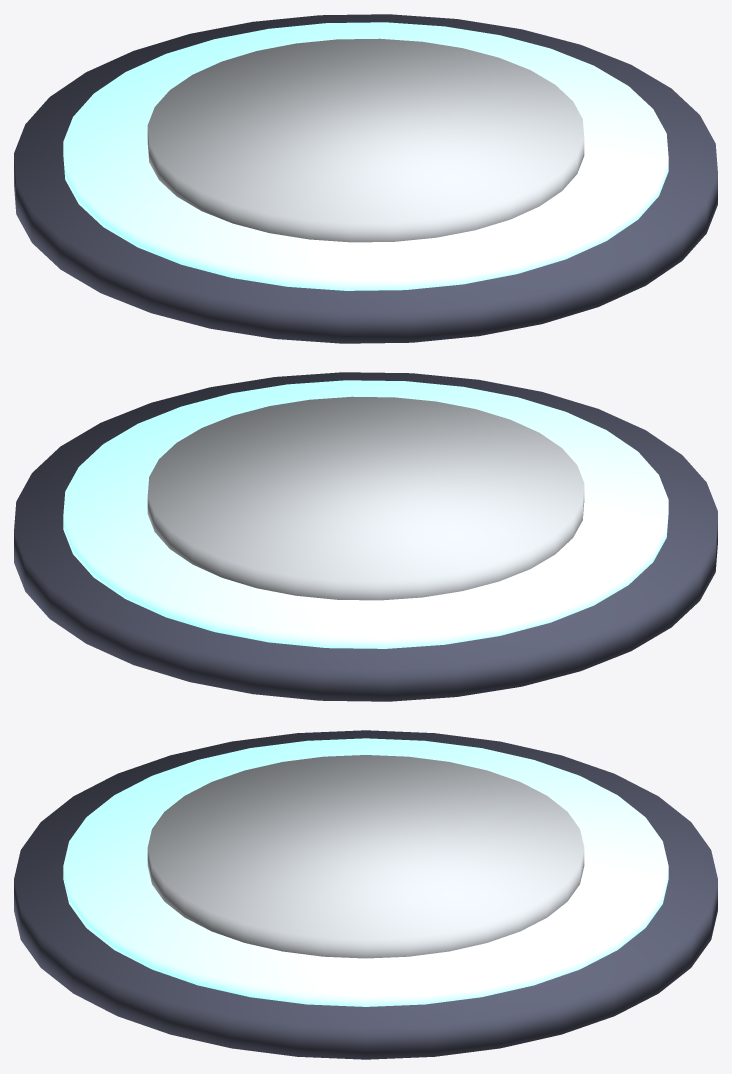
File: pad.glb
3 views of the same model, one above another, from view 1: azimuth 30°, elevation 25°; view 2: azimuth 150°, elevation 25°; view 3: azimuth 270°, elevation 25° (orthographic).
Visible parts, largest first — view 1: Cylinder.002, Cylinder, Cylinder.001; view 2: Cylinder.002, Cylinder, Cylinder.001; view 3: Cylinder.002, Cylinder, Cylinder.001.
Boxes of the visible parts, left/top/right/bottom form: Cylinder.002: left=147, top=38, right=584, bottom=242; Cylinder: left=14, top=14, right=717, bottom=343; Cylinder.001: left=63, top=22, right=668, bottom=290; Cylinder.002: left=147, top=396, right=584, bottom=600; Cylinder: left=14, top=372, right=717, bottom=701; Cylinder.001: left=63, top=380, right=668, bottom=648; Cylinder.002: left=147, top=755, right=584, bottom=958; Cylinder: left=14, top=730, right=717, bottom=1059; Cylinder.001: left=63, top=738, right=668, bottom=1006.
Bounding box in the file's own units: 2 × 0.2 × 2.
